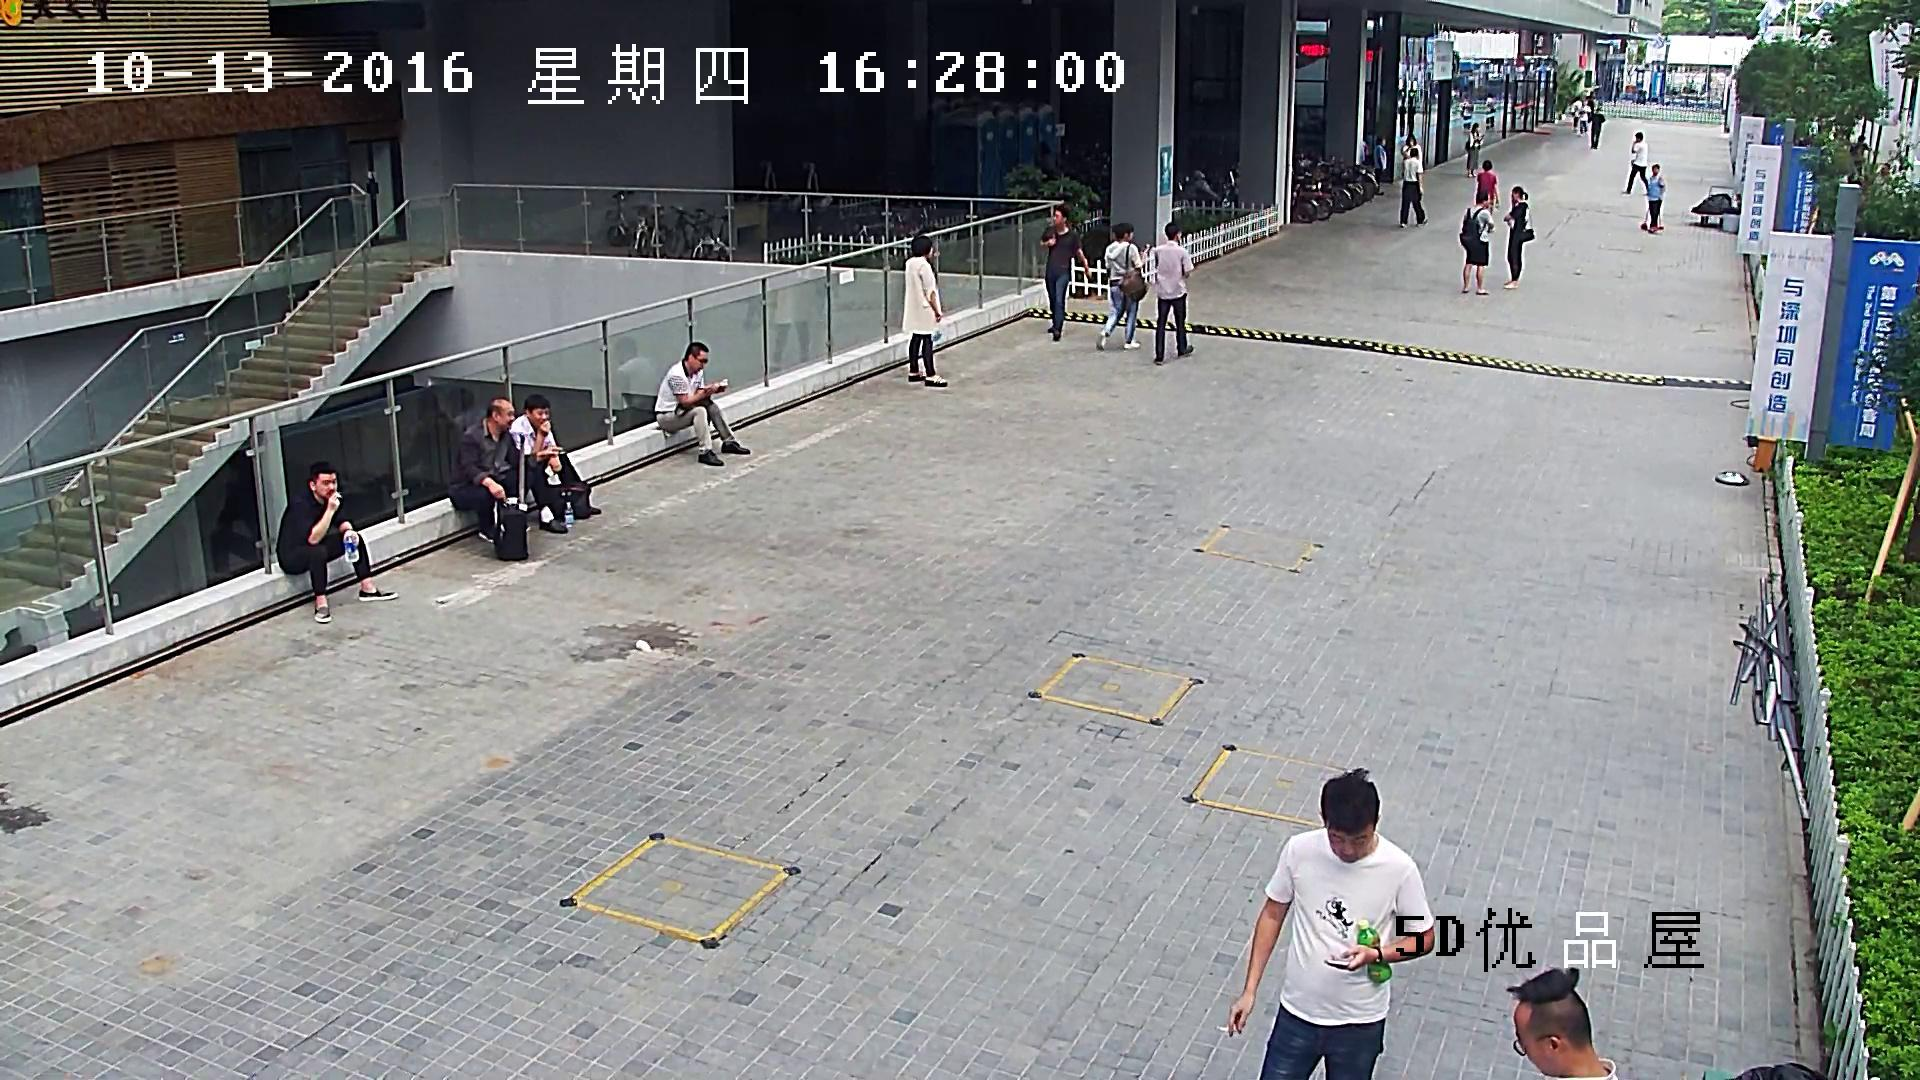person: (1215, 768, 1434, 1080), (275, 460, 399, 623), (448, 398, 565, 542), (508, 394, 601, 533), (654, 342, 750, 465), (208, 451, 274, 576), (1039, 206, 1091, 341), (901, 236, 947, 386), (1095, 222, 1147, 350), (1153, 222, 1194, 365), (611, 336, 661, 429), (768, 281, 817, 369), (1460, 190, 1493, 294), (1503, 186, 1534, 288), (1399, 148, 1427, 227), (1621, 132, 1648, 194), (1477, 159, 1499, 232), (1641, 164, 1663, 233), (1647, 164, 1664, 233), (1464, 121, 1483, 176), (1849, 135, 1870, 185), (1374, 135, 1386, 194), (1588, 108, 1605, 149), (1459, 94, 1473, 134), (1403, 133, 1422, 158), (1577, 99, 1590, 133), (1571, 96, 1581, 130), (1486, 93, 1496, 128)
